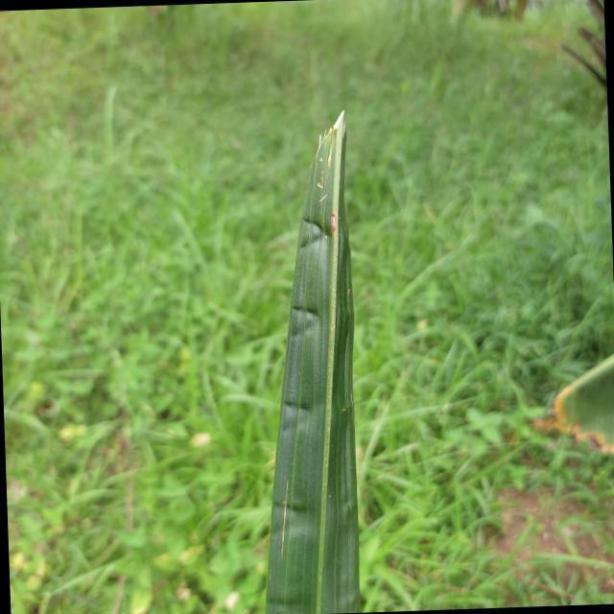Boron: (262, 102, 363, 614)
